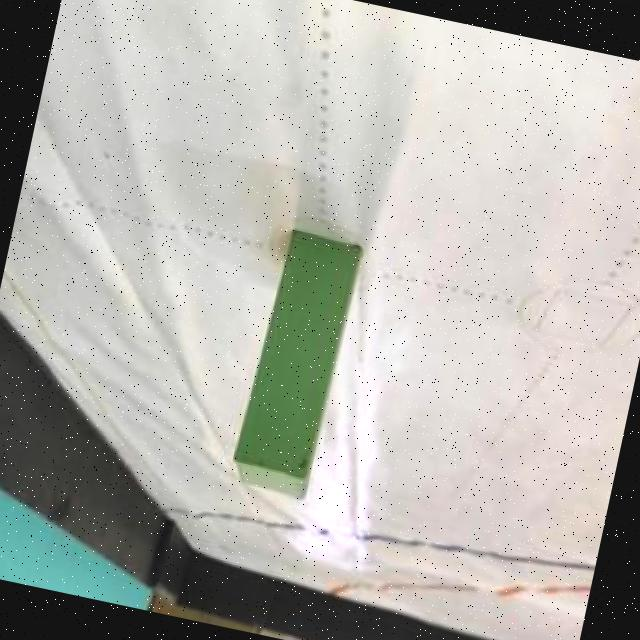greenbox: (226, 224, 364, 507)
